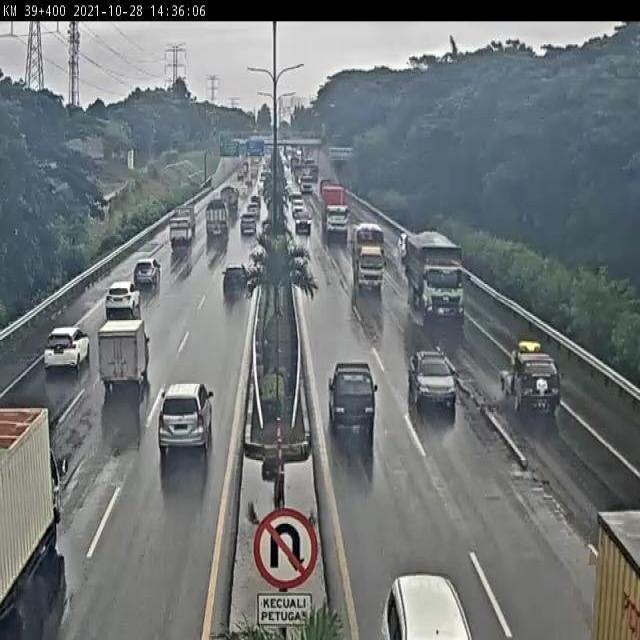car: (496, 345, 561, 412)
truck-m-: (406, 233, 467, 319)
truck-s-: (95, 319, 148, 389)
truck-xl-: (319, 185, 349, 239)
